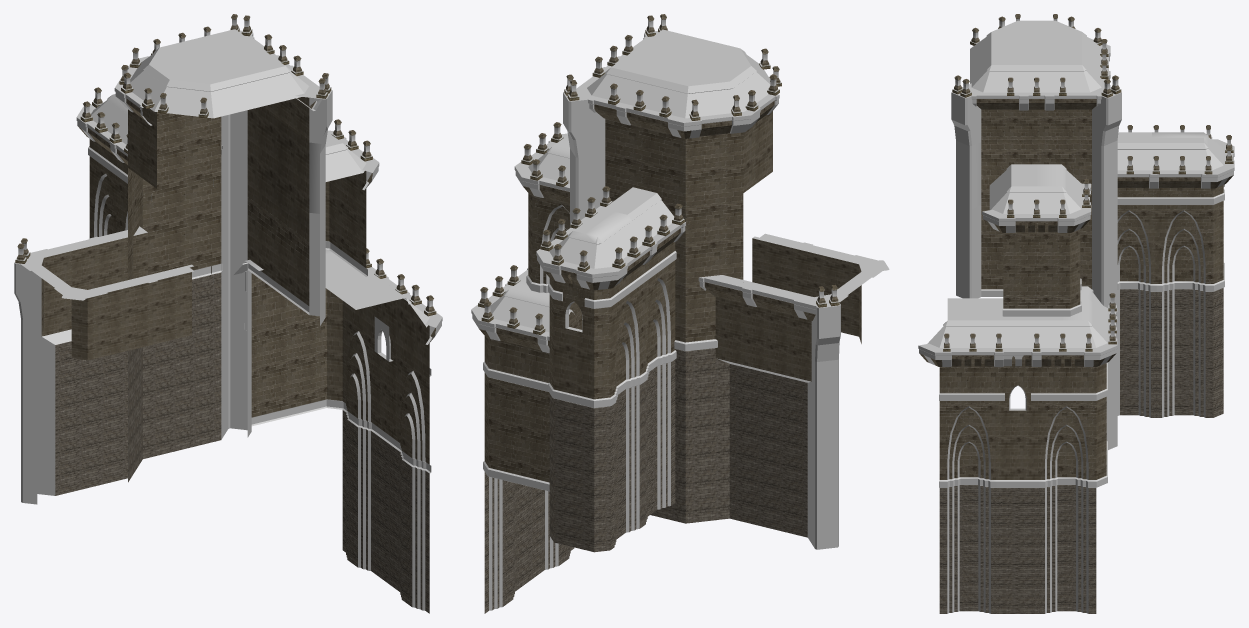
File: SM_Chappel.FBX
The picture shows the model from 3 angles, left to right: view 1: azimuth 30°, elevation 25°; view 2: azimuth 150°, elevation 25°; view 3: azimuth 270°, elevation 25°; orthographic projection. The views are drawn at different scales.
Visible parts, largest first — view 1: SM_Chappel; view 2: SM_Chappel; view 3: SM_Chappel.
Boxes of the visible parts, box(x1,y1,x2,y2) form: SM_Chappel: box(14, 14, 442, 613); SM_Chappel: box(471, 14, 889, 613); SM_Chappel: box(918, 14, 1234, 613).
Size of what is drawn, in the model's own units: 5314 by 4659 by 8100.
